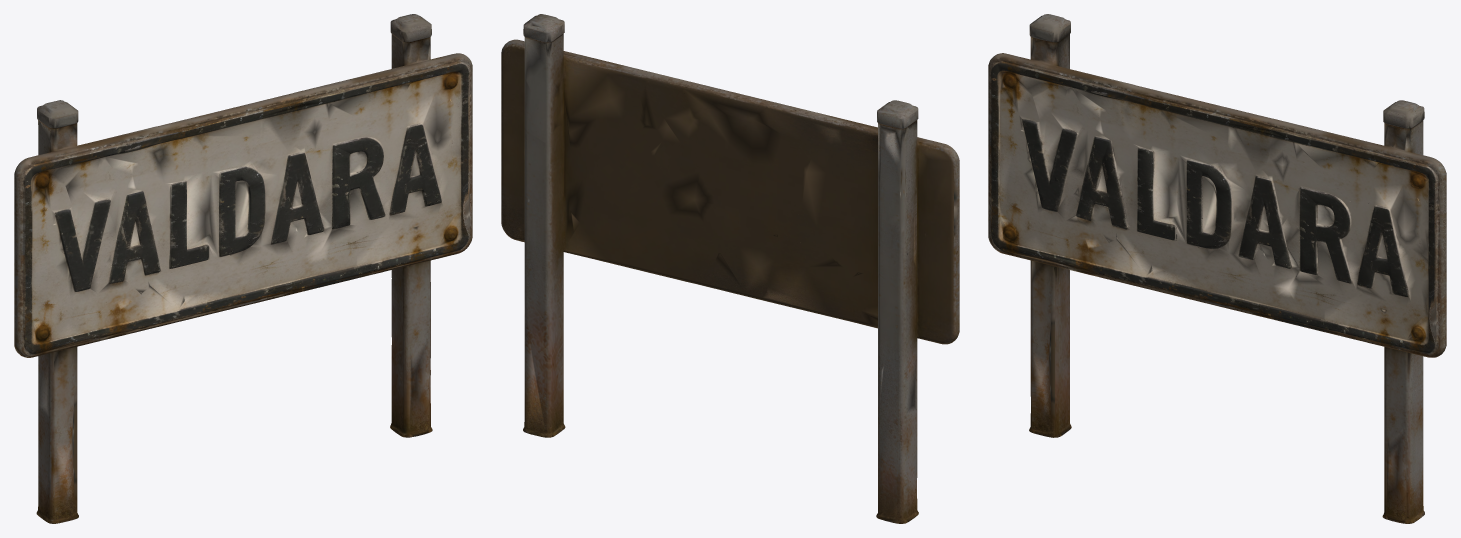
Rendered from CartelValdara.glb.
3 views of the same model, side by side, from view 1: azimuth 30°, elevation 25°; view 2: azimuth 150°, elevation 25°; view 3: azimuth 330°, elevation 25° (orthographic).
Visible parts, largest first — view 1: node_0; view 2: node_0; view 3: node_0.
Part boxes in pixels (x1,y1,x2,y2): node_0: (14,14,472,523); node_0: (501,14,959,523); node_0: (988,14,1446,523).
Bounding box in the file's own units: 0.9972 × 0.8557 × 0.0907.
Materials: 1 (1 with a texture image).
